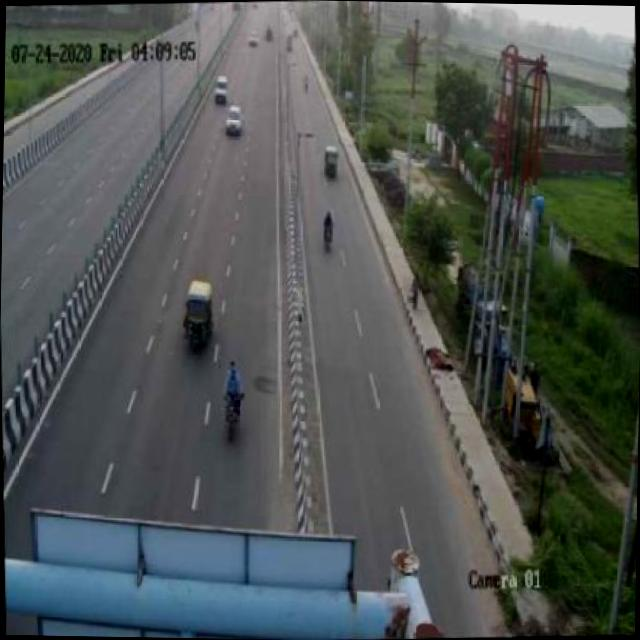car: (220, 98, 248, 138)
